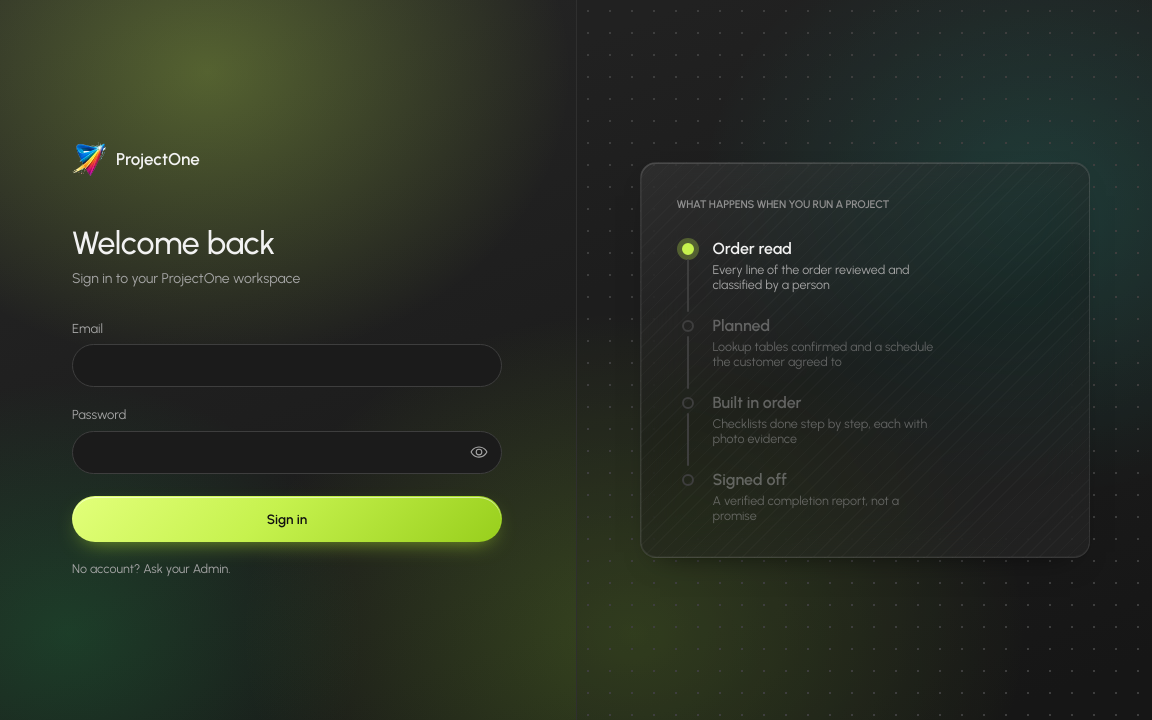
sign-in gate › shows the one answer the server gives for a wrong email or password
Type "engineer01@test.com" into the field labelled "Email".
click(287, 366); type("engineer01@test.com")  # box [72, 344, 502, 387]
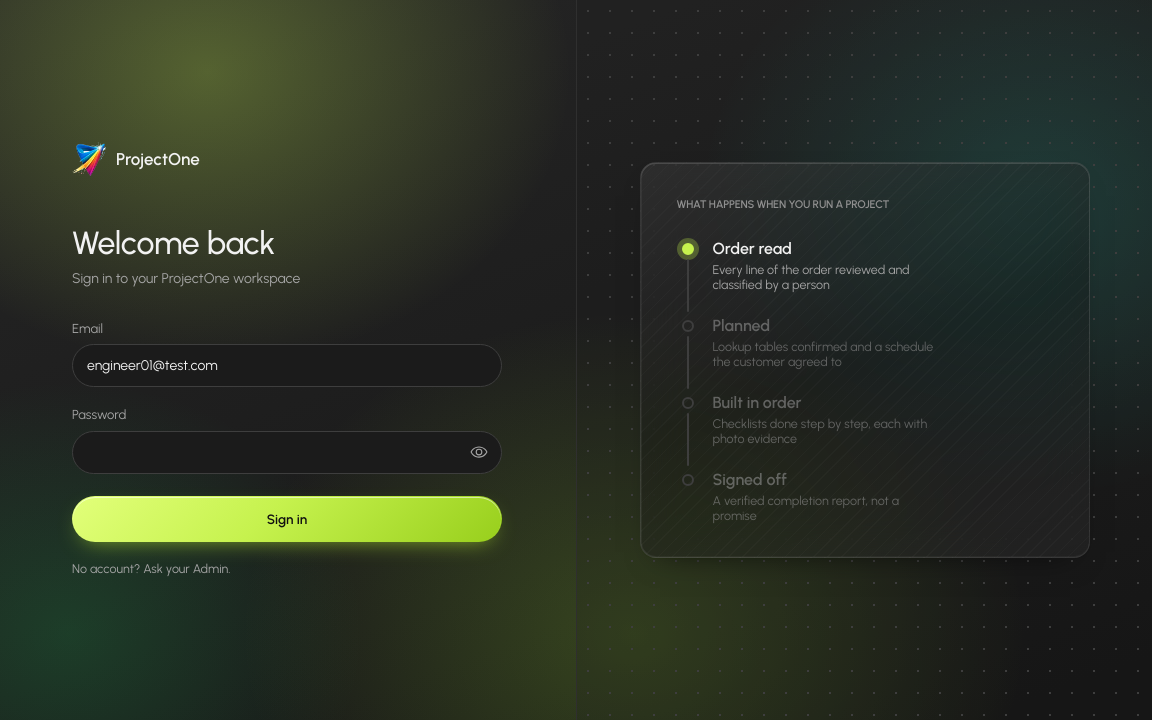
Type "wrong" into the password field labelled "Password".
click(287, 452); type("wrong")  # box [72, 430, 502, 474]
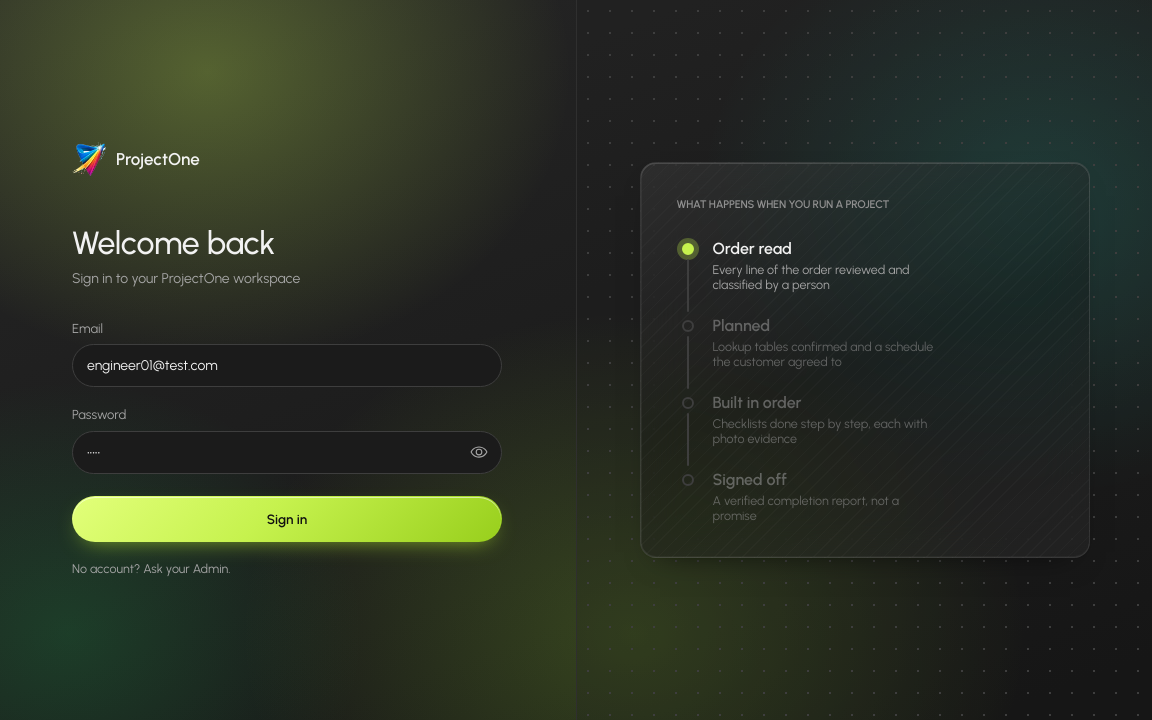
Click the button "Sign in".
click(287, 519)  # box [72, 496, 502, 542]
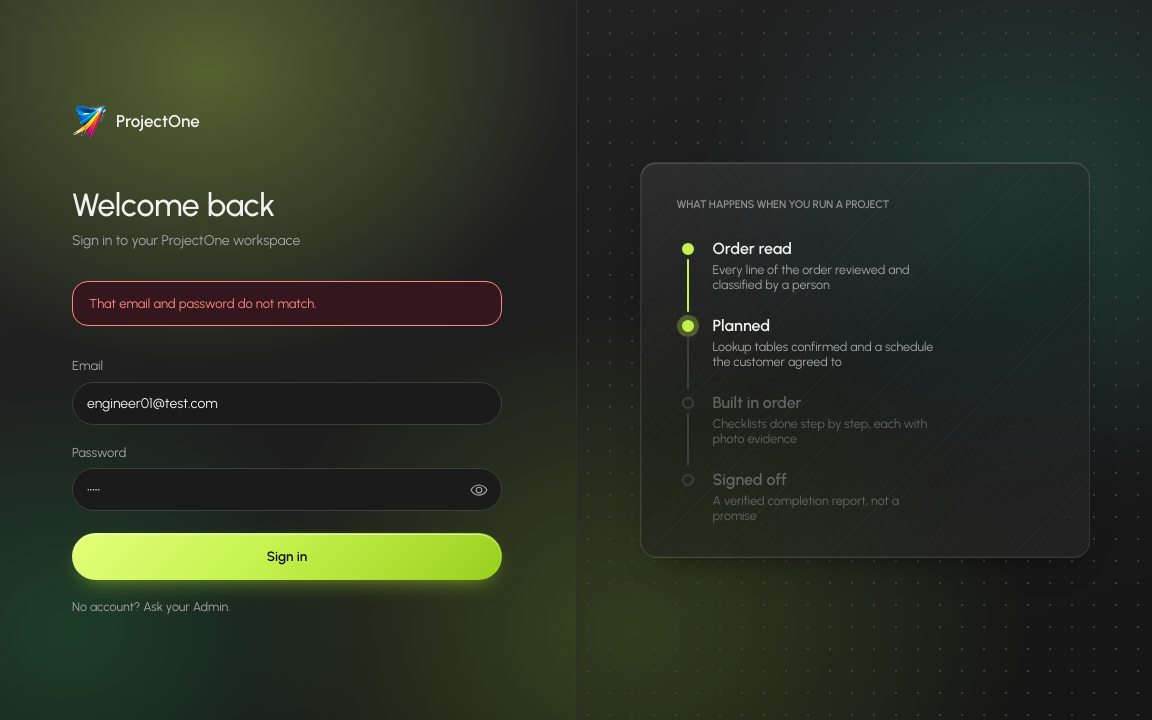
Expected: the heading "Welcome back" is shown, [72, 186, 275, 224]
Result: the text "That email and password do not match." is shown at [89, 296, 316, 311]
